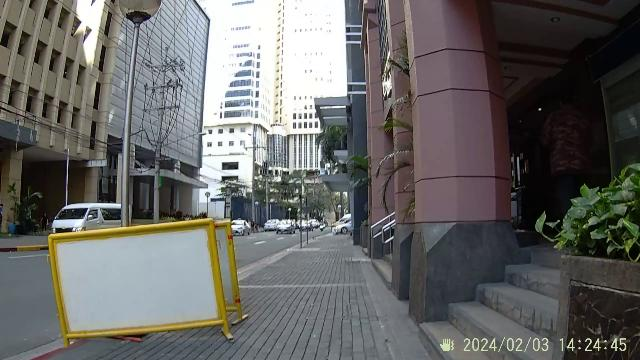construction_materials: (47, 214, 241, 344)
lamp_post: (115, 0, 157, 218)
potted_plant: (552, 168, 640, 352)
utility_post: (144, 52, 188, 204)
